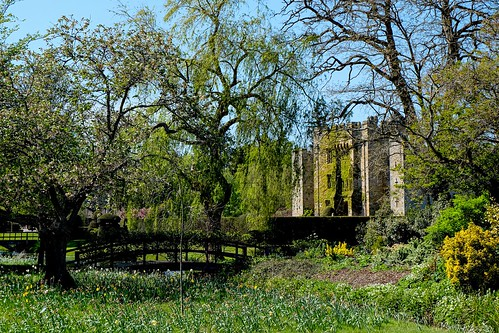bridge: (61, 242, 285, 284)
building: (301, 128, 416, 222)
vegetation: (1, 2, 494, 327)
